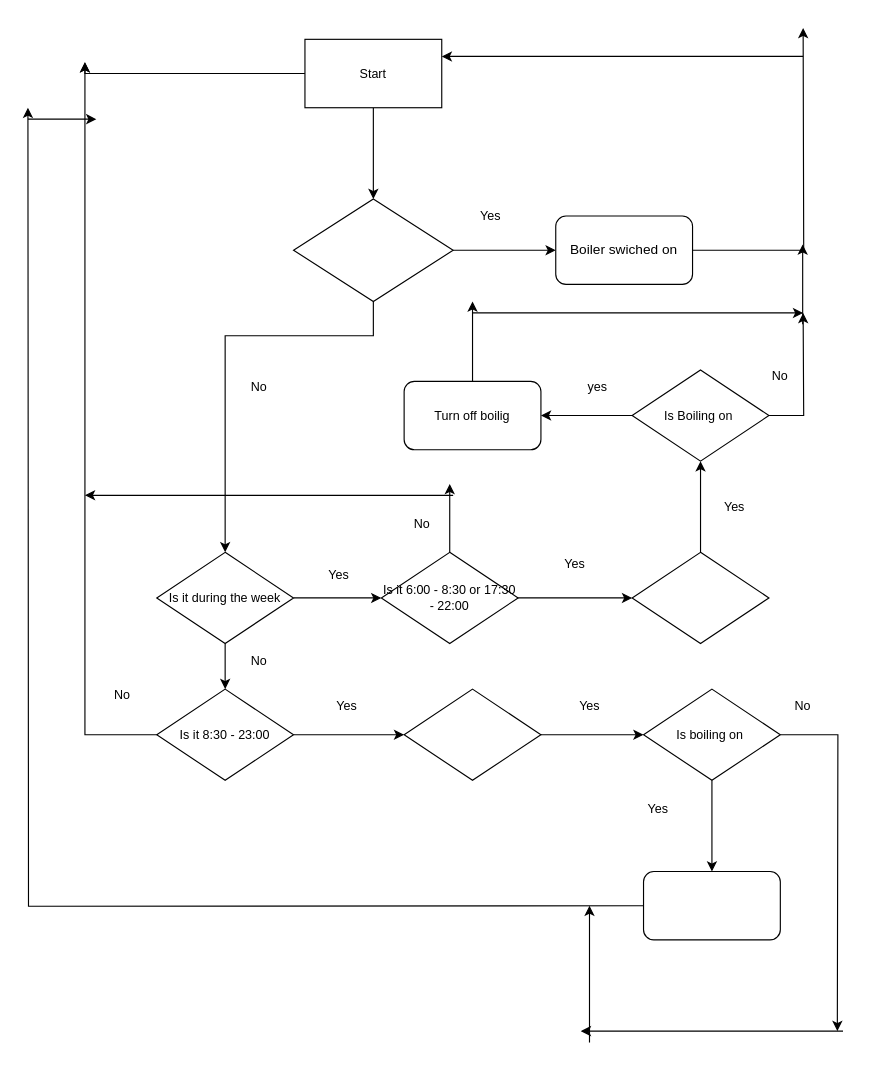
Some shapes in this 872 by 1072 pixel diagram are drawn without their labels. The box of each missing label's shape, as (x1, y1, x2, y2) in pixels:
Is temperature in the house falls bellow 10 °C: (292, 198, 453, 302)
Is temperature is 20 °C: (631, 551, 769, 644)
Is temperature is 22 °C: (403, 688, 541, 780)
Turn off boiling: (642, 870, 780, 940)
